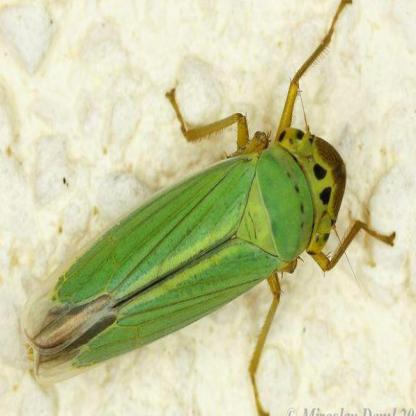Green-Leafhopper: (21, 1, 397, 416)
